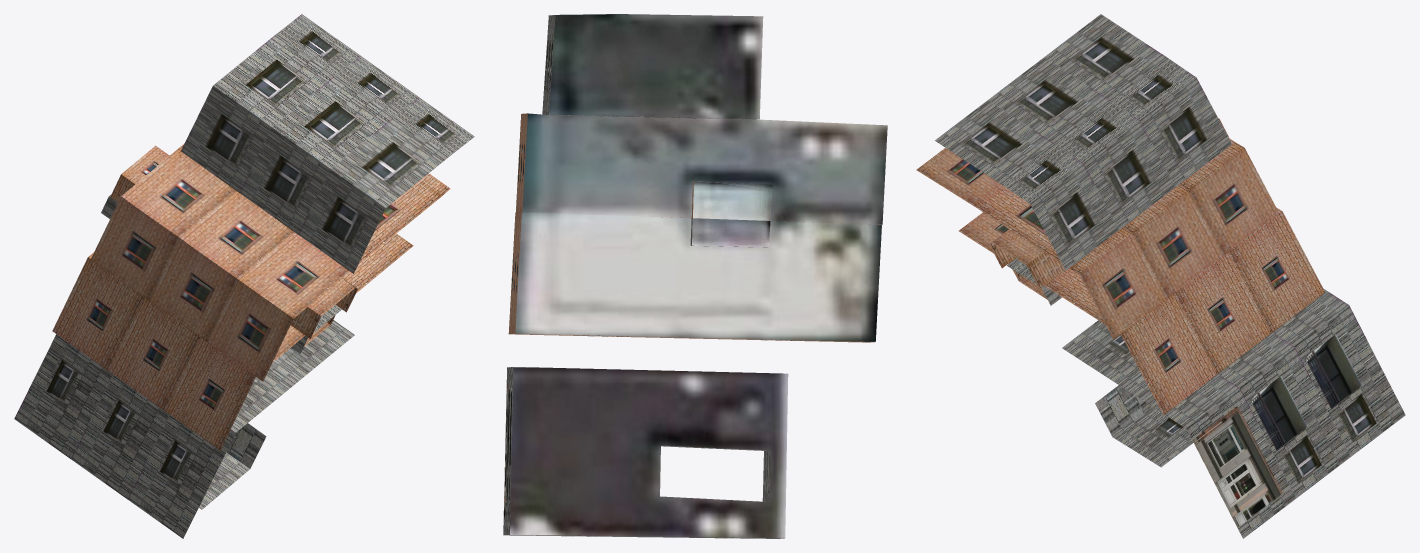
The picture shows the model from 3 angles, left to right: view 1: azimuth 30°, elevation 25°; view 2: azimuth 150°, elevation 25°; view 3: azimuth 270°, elevation 25°; orthographic projection. The views are drawn at different scales.
Bounding box in the file's own units: 19.56 × 23.93 × 23.31.
Materials: 19 (19 with a texture image).
